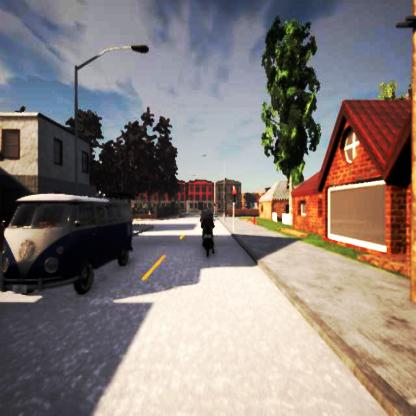motobike: (200, 210, 215, 254)
vehicle: (2, 193, 135, 296)
